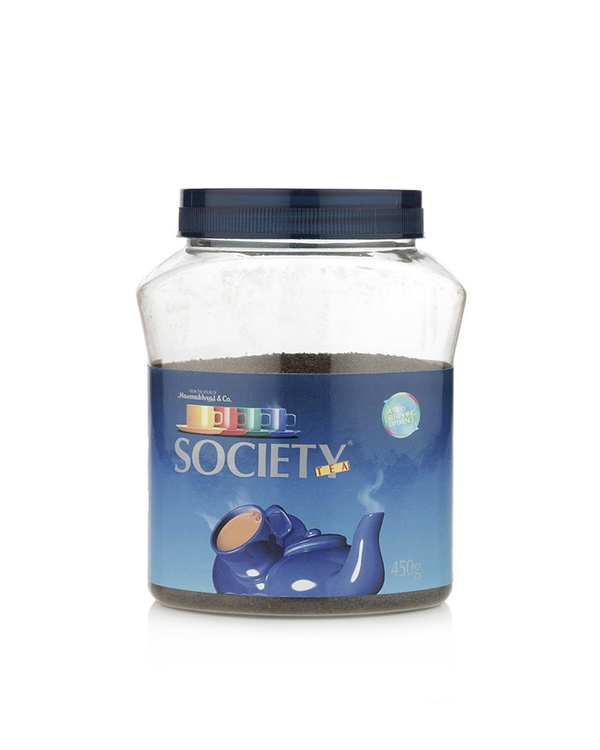society: (136, 353, 458, 594)
